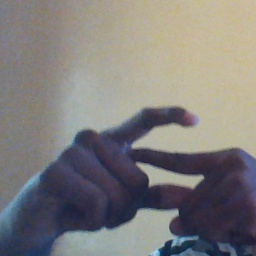E: (122, 105, 217, 214)
